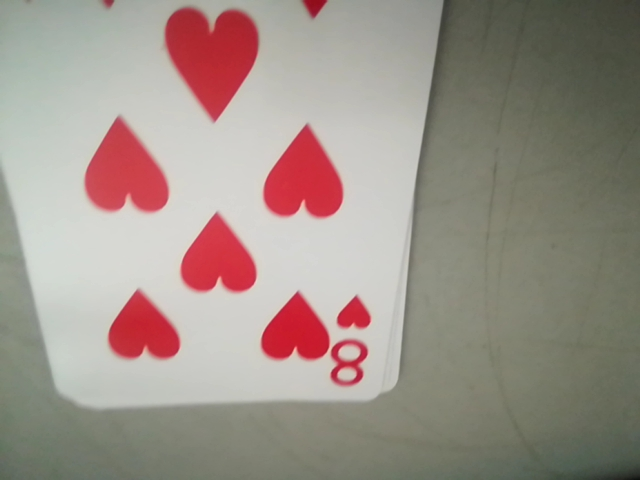hx 8: (328, 291, 378, 388)
